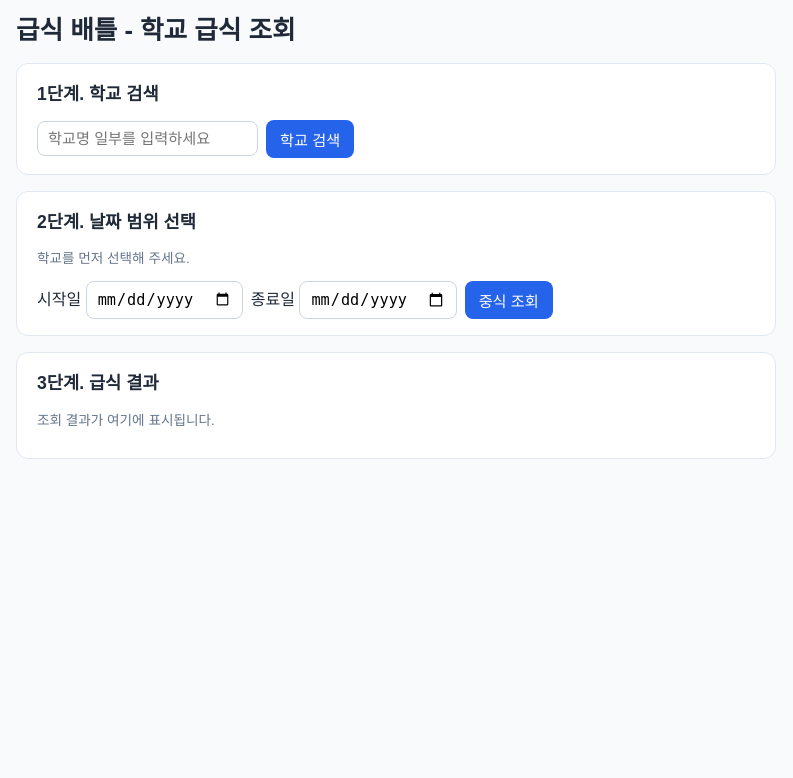
Test: 급식 배틀 앱 › 학교 선택과 날짜 입력 후 날짜별 급식 결과를 표시한다
The width and height of the screenshot is (793, 778).
In the field named "학교명 검색어": (148, 139) top-left (37, 121), bottom-right (258, 156), type "서울고"
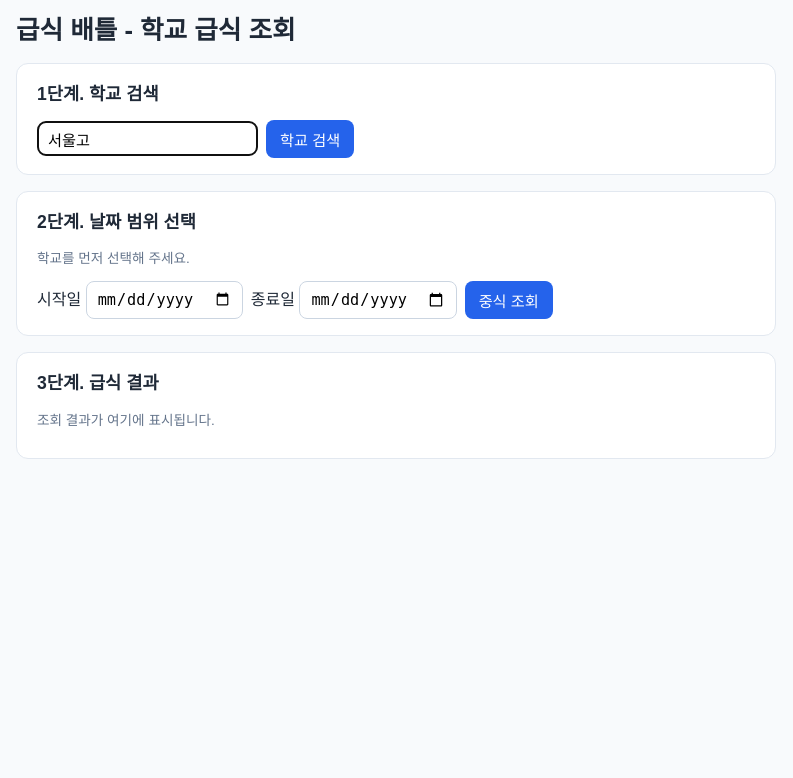
Click the button "학교 검색": (310, 139) top-left (266, 120), bottom-right (354, 158)
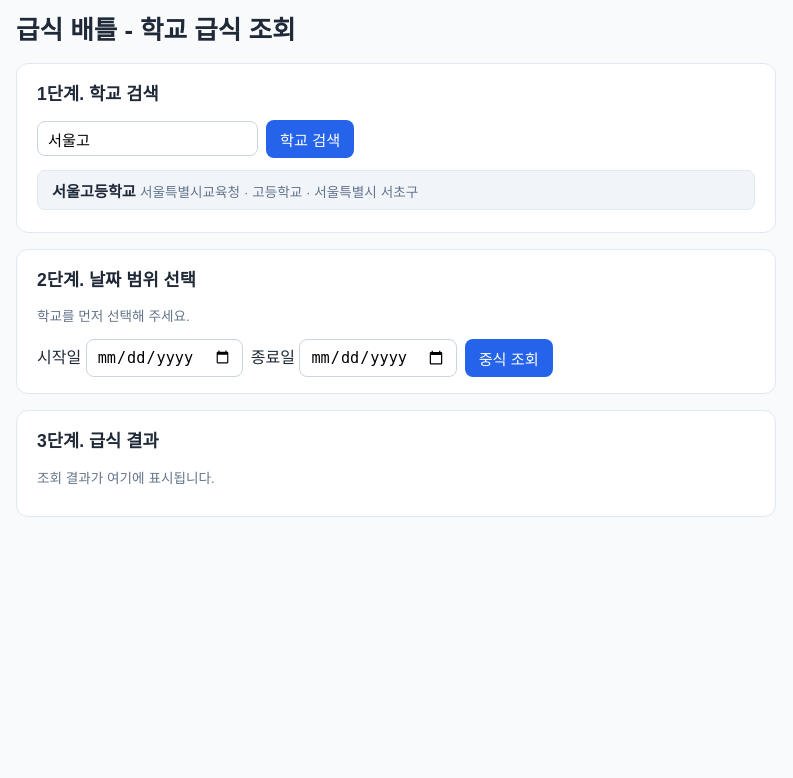
Click the button "서울고등학교 서울특별시교육청 · 고등학교 · 서울특별시 서초구": (396, 190) top-left (37, 170), bottom-right (755, 210)
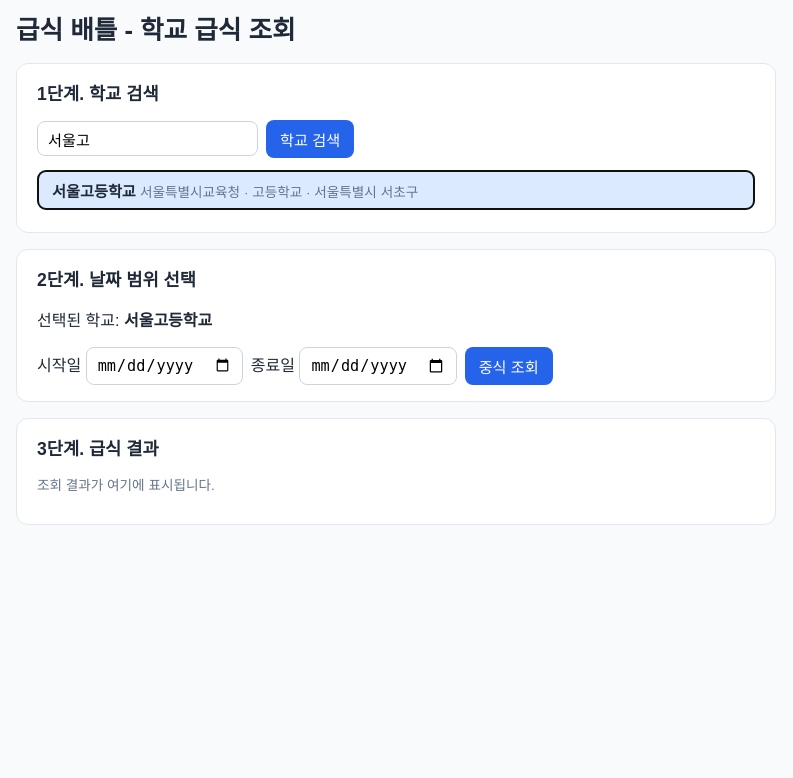
Check: the text "선택된 학교:" is shown, box top-left (37, 312), bottom-right (124, 329)
In the date field labelled "시작일": (164, 366) top-left (86, 347), bottom-right (243, 385), type "2026-08-13"
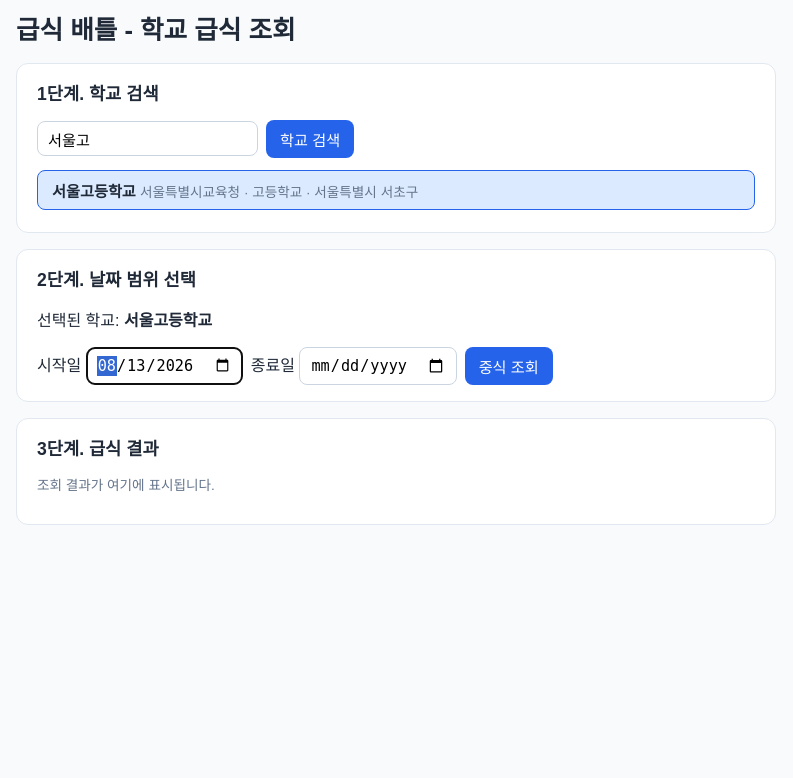
In the date field labelled "종료일": (378, 366) top-left (299, 347), bottom-right (457, 385), type "2026-08-14"
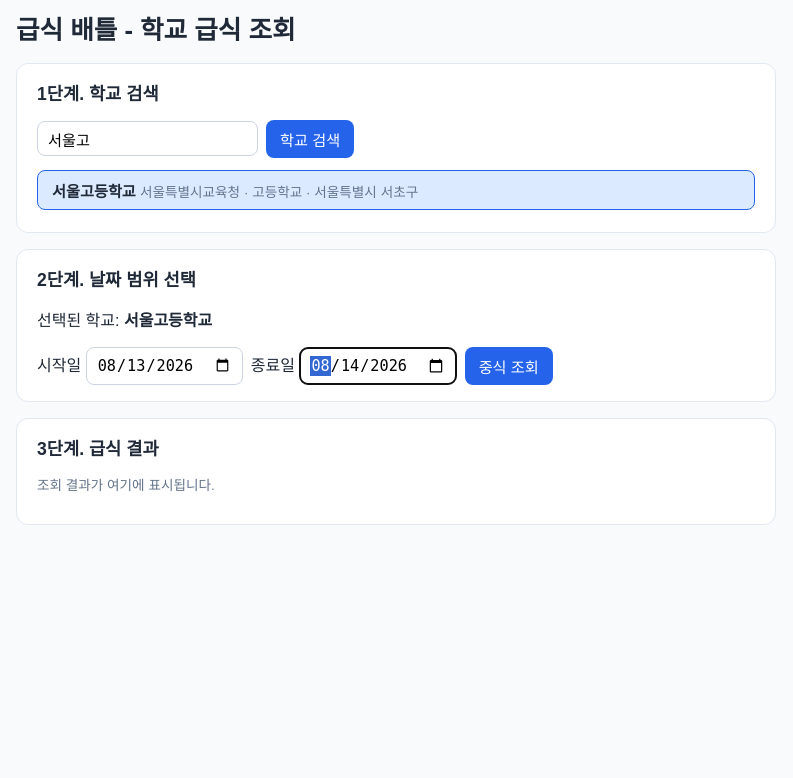
Click the button "중식 조회": (509, 366) top-left (465, 347), bottom-right (553, 385)
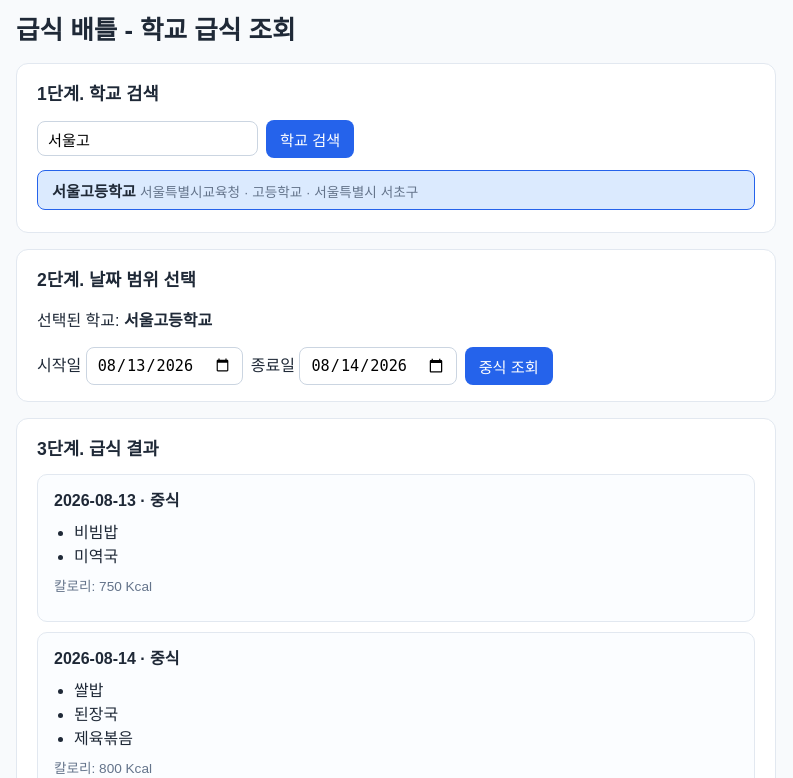
Check: the heading "2026-08-13 · 중식" is shown, box top-left (54, 492), bottom-right (180, 510)
Check: the heading "2026-08-14 · 중식" is shown, box top-left (54, 650), bottom-right (180, 667)
Check: the list item "제육볶음" is shown, box top-left (74, 730), bottom-right (133, 747)
